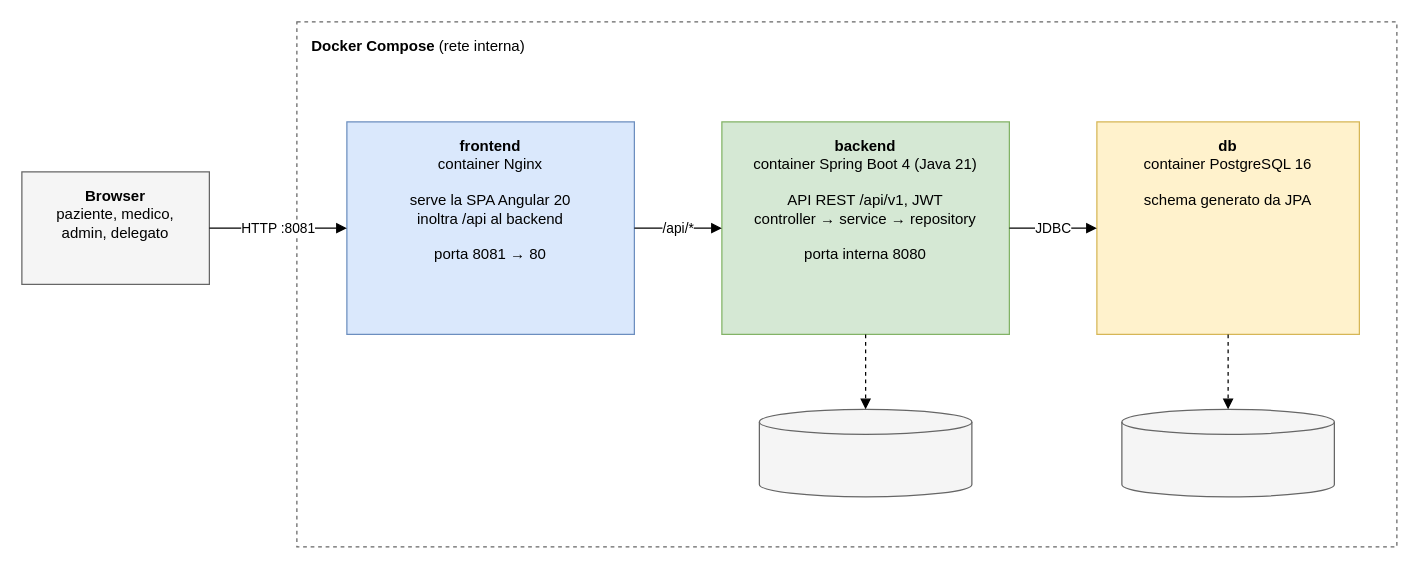
This 1419x569 diagram has some shape labels left out. Here are the shapes that lost their labels. From the top down, the box of each, then its label:
(758, 408, 972, 497): volume attachments allegati dei referti
(1121, 408, 1334, 497): volume db-data dati del database
